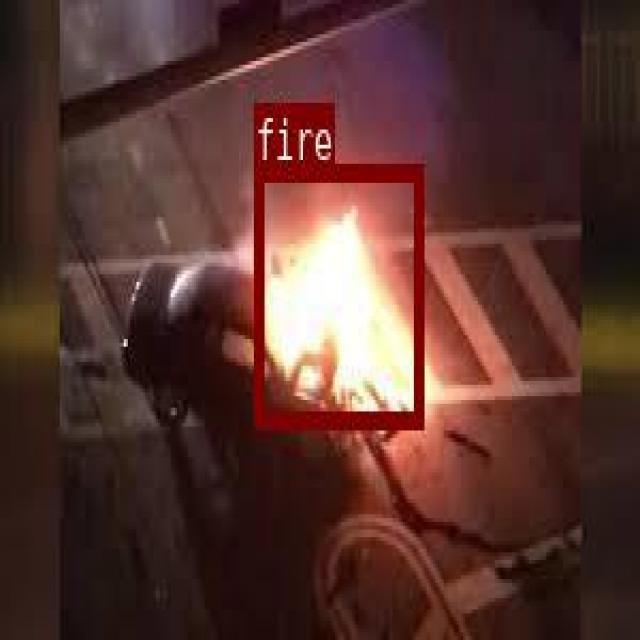fire: (253, 164, 422, 424)
